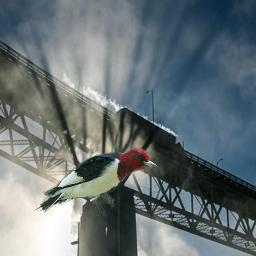Woodpecker: (30, 142, 163, 220)
